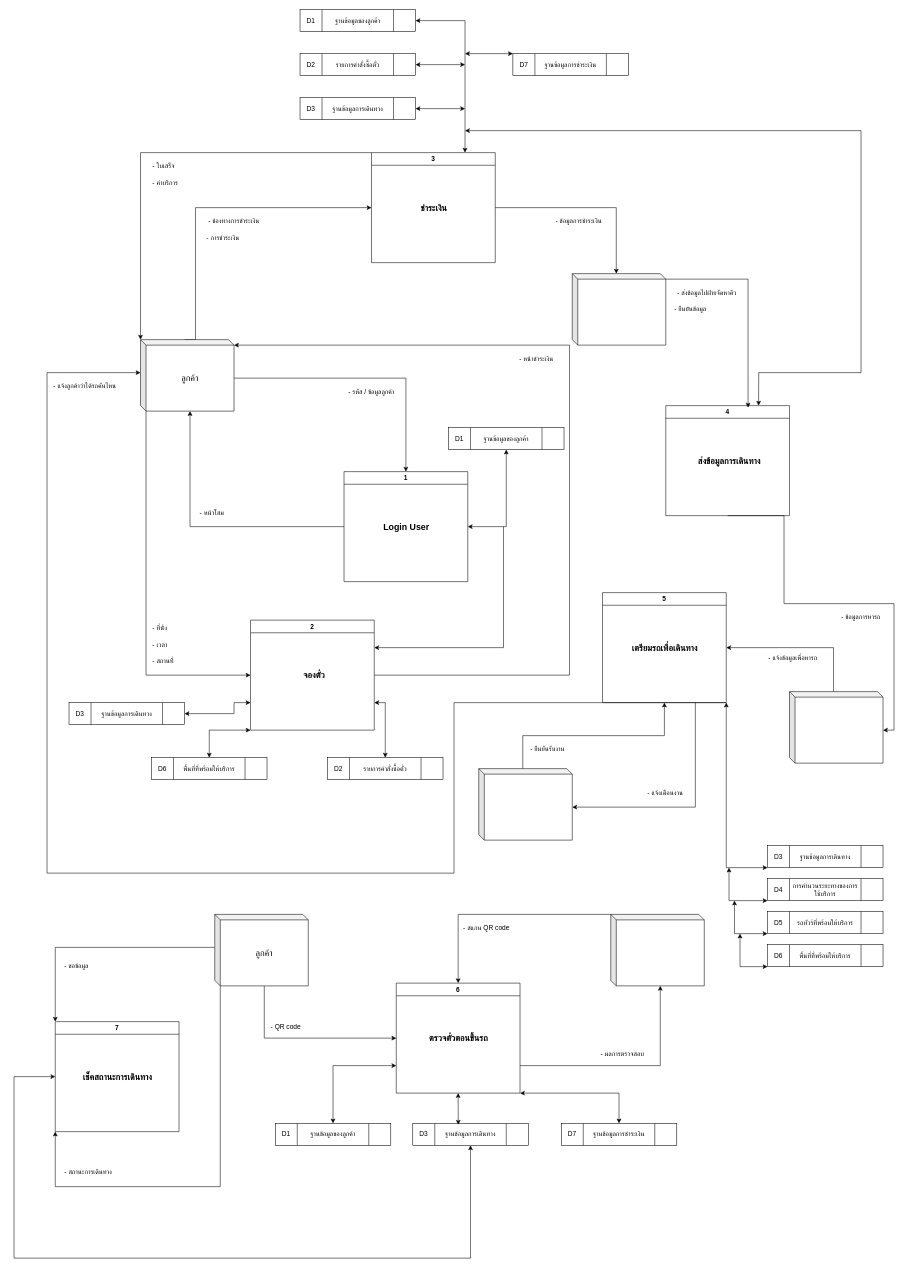
Image size: 920x1273. Some labels were removed from this diagram. The centre of each missing label's shape, as x and y in pixels:
"คนขับรถ" goes at [525,804].
"ผู้จำหน่ายตั๋ว" goes at [619,309].
"ฝ่ายจัดการคิวรถ" goes at [836,727].
"พนักงานผู้ช่วยตรวจตั๋ว" goes at [657,950].
